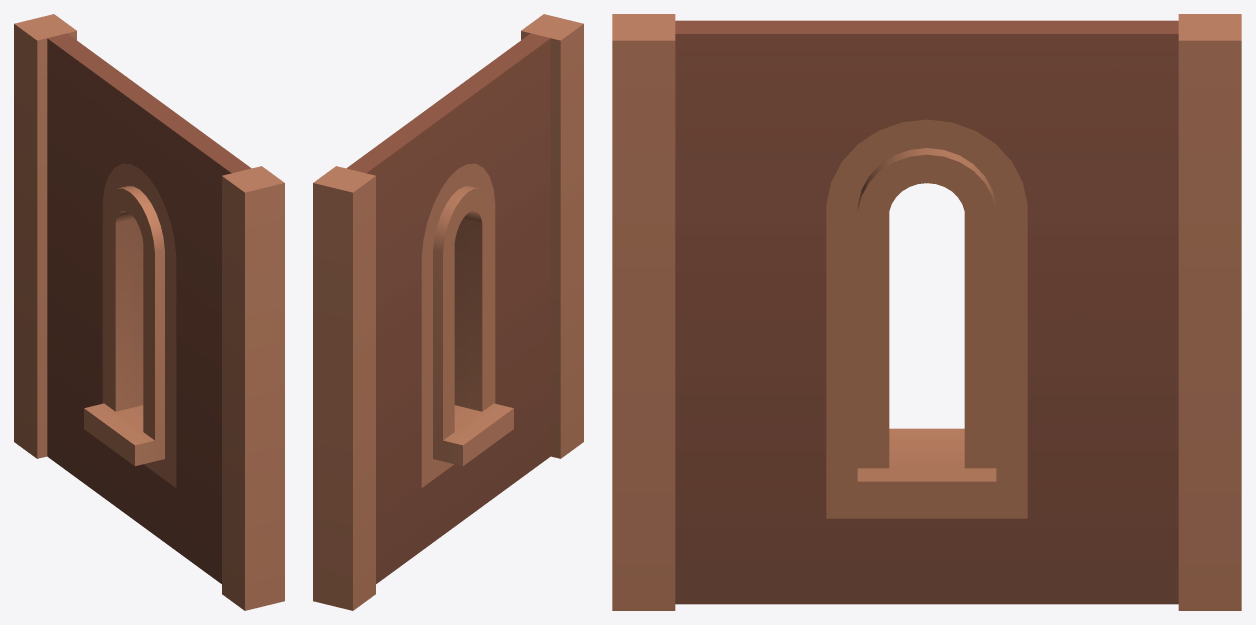
Rendered from wall-wood-window-round.glb.
The picture shows the model from 3 angles, left to right: view 1: azimuth 30°, elevation 25°; view 2: azimuth 150°, elevation 25°; view 3: azimuth 270°, elevation 25°; orthographic projection. The views are drawn at different scales.
Visible parts, largest first — view 1: wall-wood-window-round; view 2: wall-wood-window-round; view 3: wall-wood-window-round.
Part boxes in pixels (box(x1,y1,x2,y2)): wall-wood-window-round: box(14, 14, 284, 610); wall-wood-window-round: box(313, 14, 583, 610); wall-wood-window-round: box(612, 14, 1241, 610).
Bounding box in the file's own units: 0.2 × 1 × 1.
Materials: 1 (1 with a texture image).
